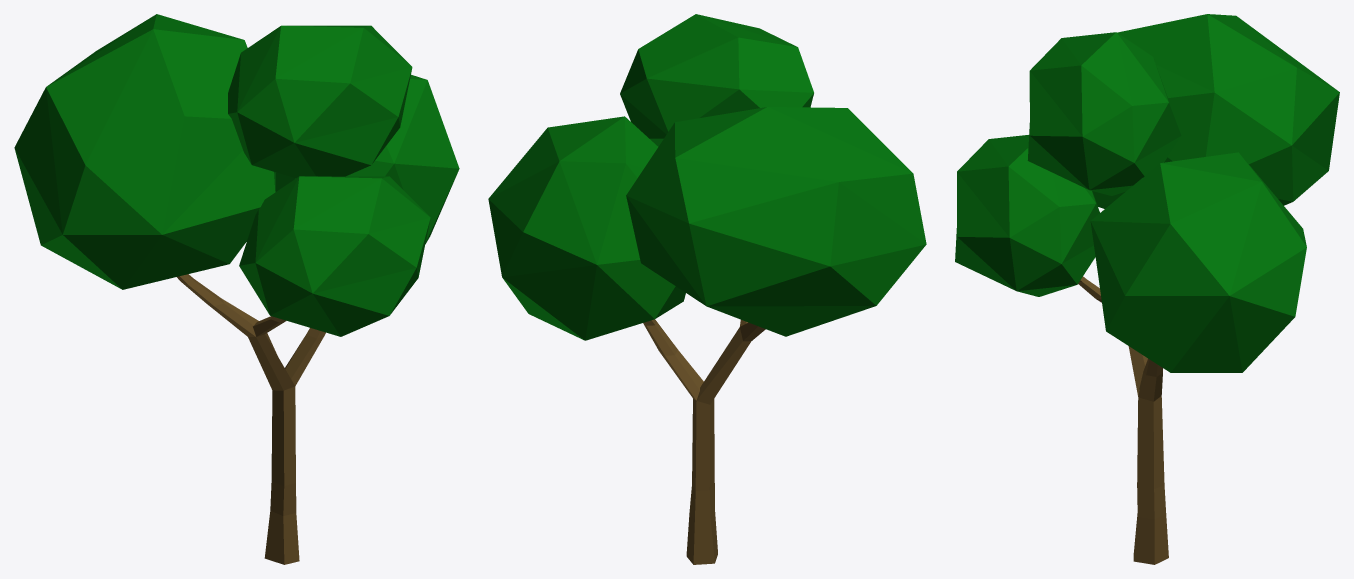
File: Tree-01.fbx
3 views of the same model, side by side, from view 1: azimuth 30°, elevation 25°; view 2: azimuth 150°, elevation 25°; view 3: azimuth 270°, elevation 25° (orthographic). The views are drawn at different scales.
Parts seen in each view (by area): view 1: Trees-01; view 2: Trees-01; view 3: Trees-01.
Part boxes in pixels (<box>): Trees-01: <box>14,14,459,564</box>; Trees-01: <box>488,14,926,564</box>; Trees-01: <box>955,14,1339,564</box>.
Size of what is drawn, in the model's own units: 6.98 by 8.77 by 5.92.
